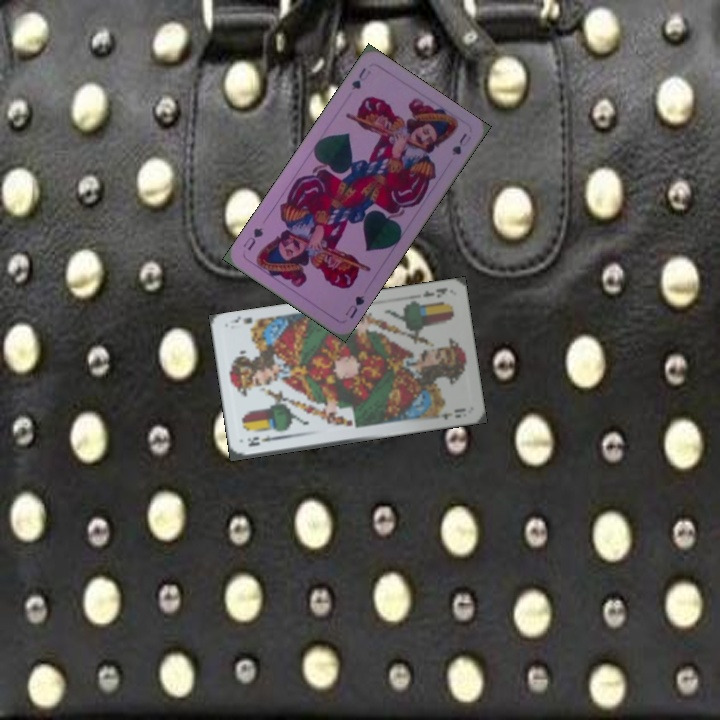EK: (244, 432, 283, 449), (419, 284, 450, 301)
GU: (347, 63, 374, 93), (341, 291, 367, 321)
